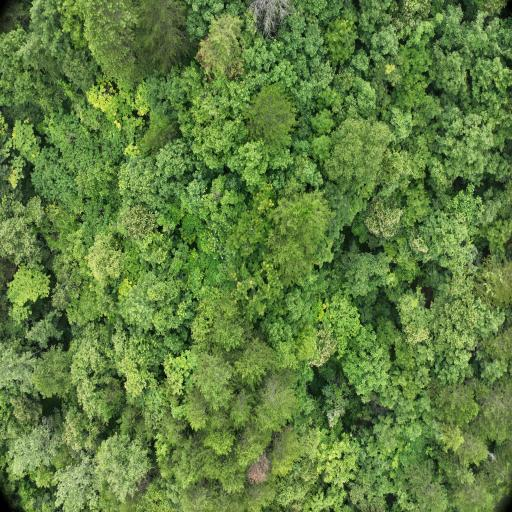dead-tree: (259, 1, 284, 28)
sick-tree: (250, 468, 268, 480)
